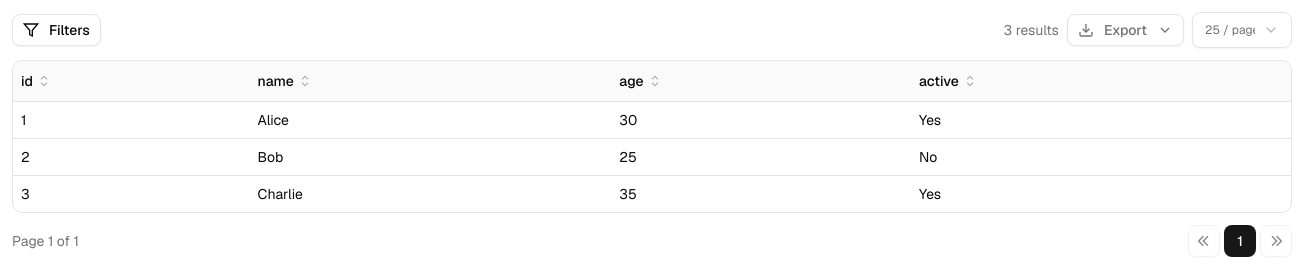
Test: DataTable › Export › opens export dropdown when clicked
This screenshot has width=1304, height=274.
Click the button "Export": [1125, 30] box [1067,14,1184,46]
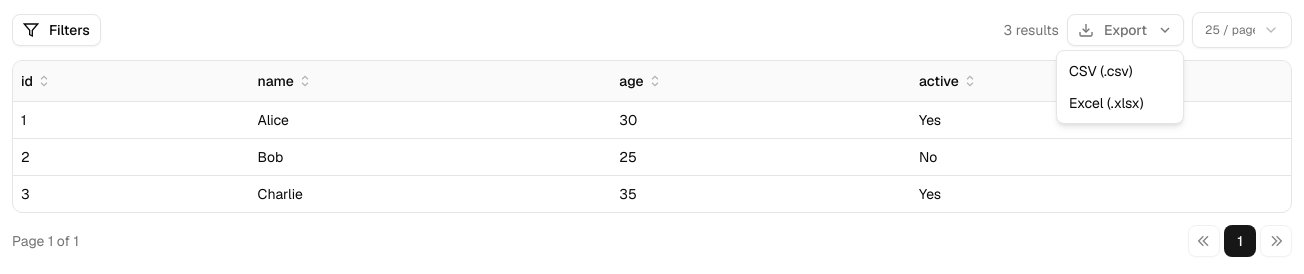
Check: the menu item "CSV (.csv)" is shown, box [1069,62,1133,80]
Check: the menu item "Excel (.xlsx)" is shown, box [1069,94,1144,112]
